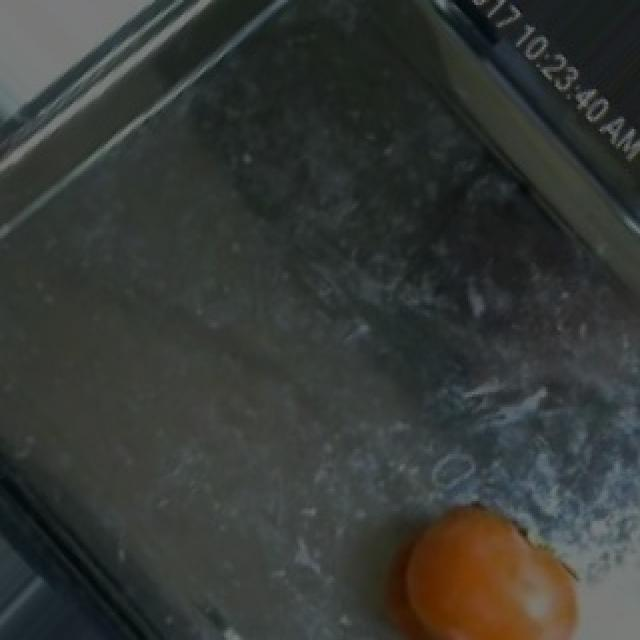Fruit: (370, 491, 602, 640)
